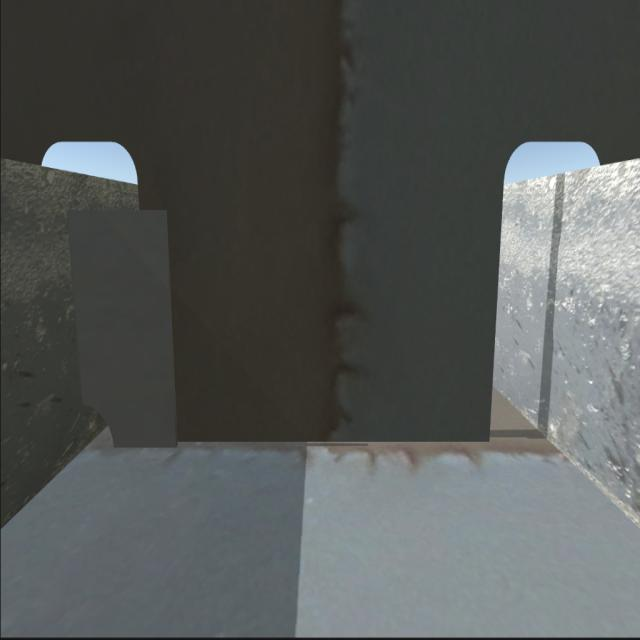fillet_hole: (84, 406, 116, 444)
fillet_yong_jeop_jang: (114, 439, 491, 449)
longi_yong_jeop_jang: (65, 211, 88, 414)
plate_CP01: (75, 209, 186, 445)
